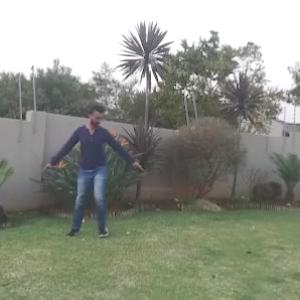land: (36, 98, 162, 252)
